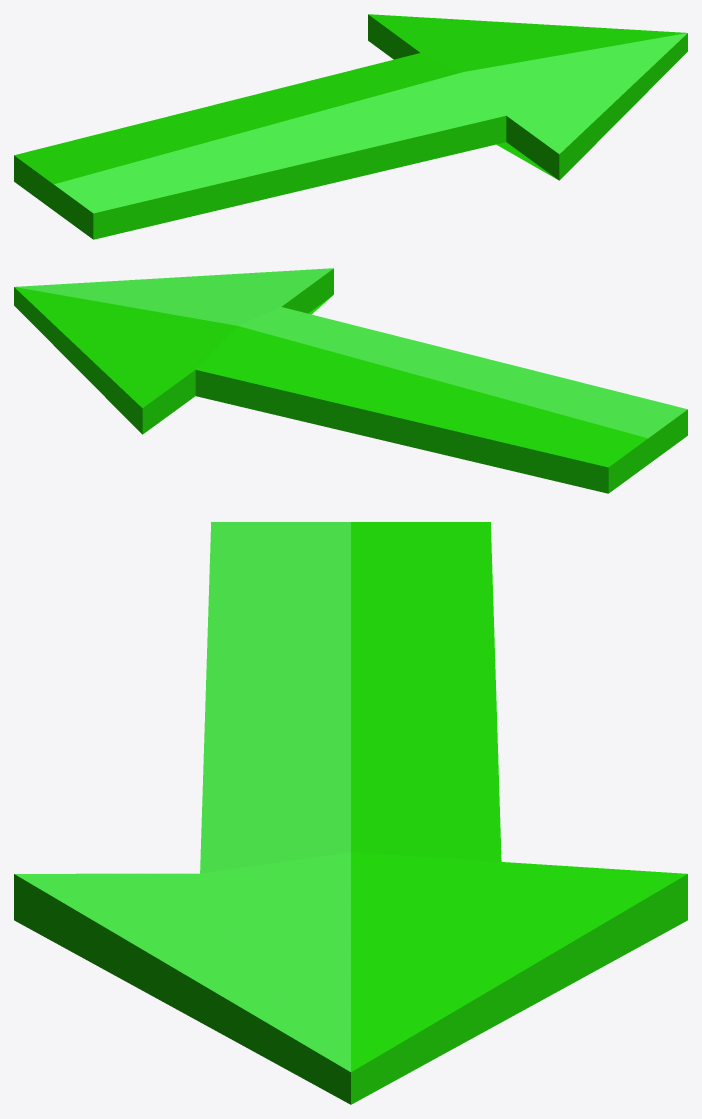
Rendered from Arrow_V2.fbx.
The picture shows the model from 3 angles, top to bottom: view 1: azimuth 30°, elevation 25°; view 2: azimuth 150°, elevation 25°; view 3: azimuth 270°, elevation 25°; orthographic projection. The views are drawn at different scales.
Parts seen in each view (by area): view 1: Cube; view 2: Cube; view 3: Cube.
Boxes of the visible parts, bbox=[...] form: Cube: bbox=[14, 14, 687, 239]; Cube: bbox=[14, 268, 687, 493]; Cube: bbox=[14, 522, 687, 1104].
Bounding box in the file's own units: 173 × 14.1 × 90.57.
